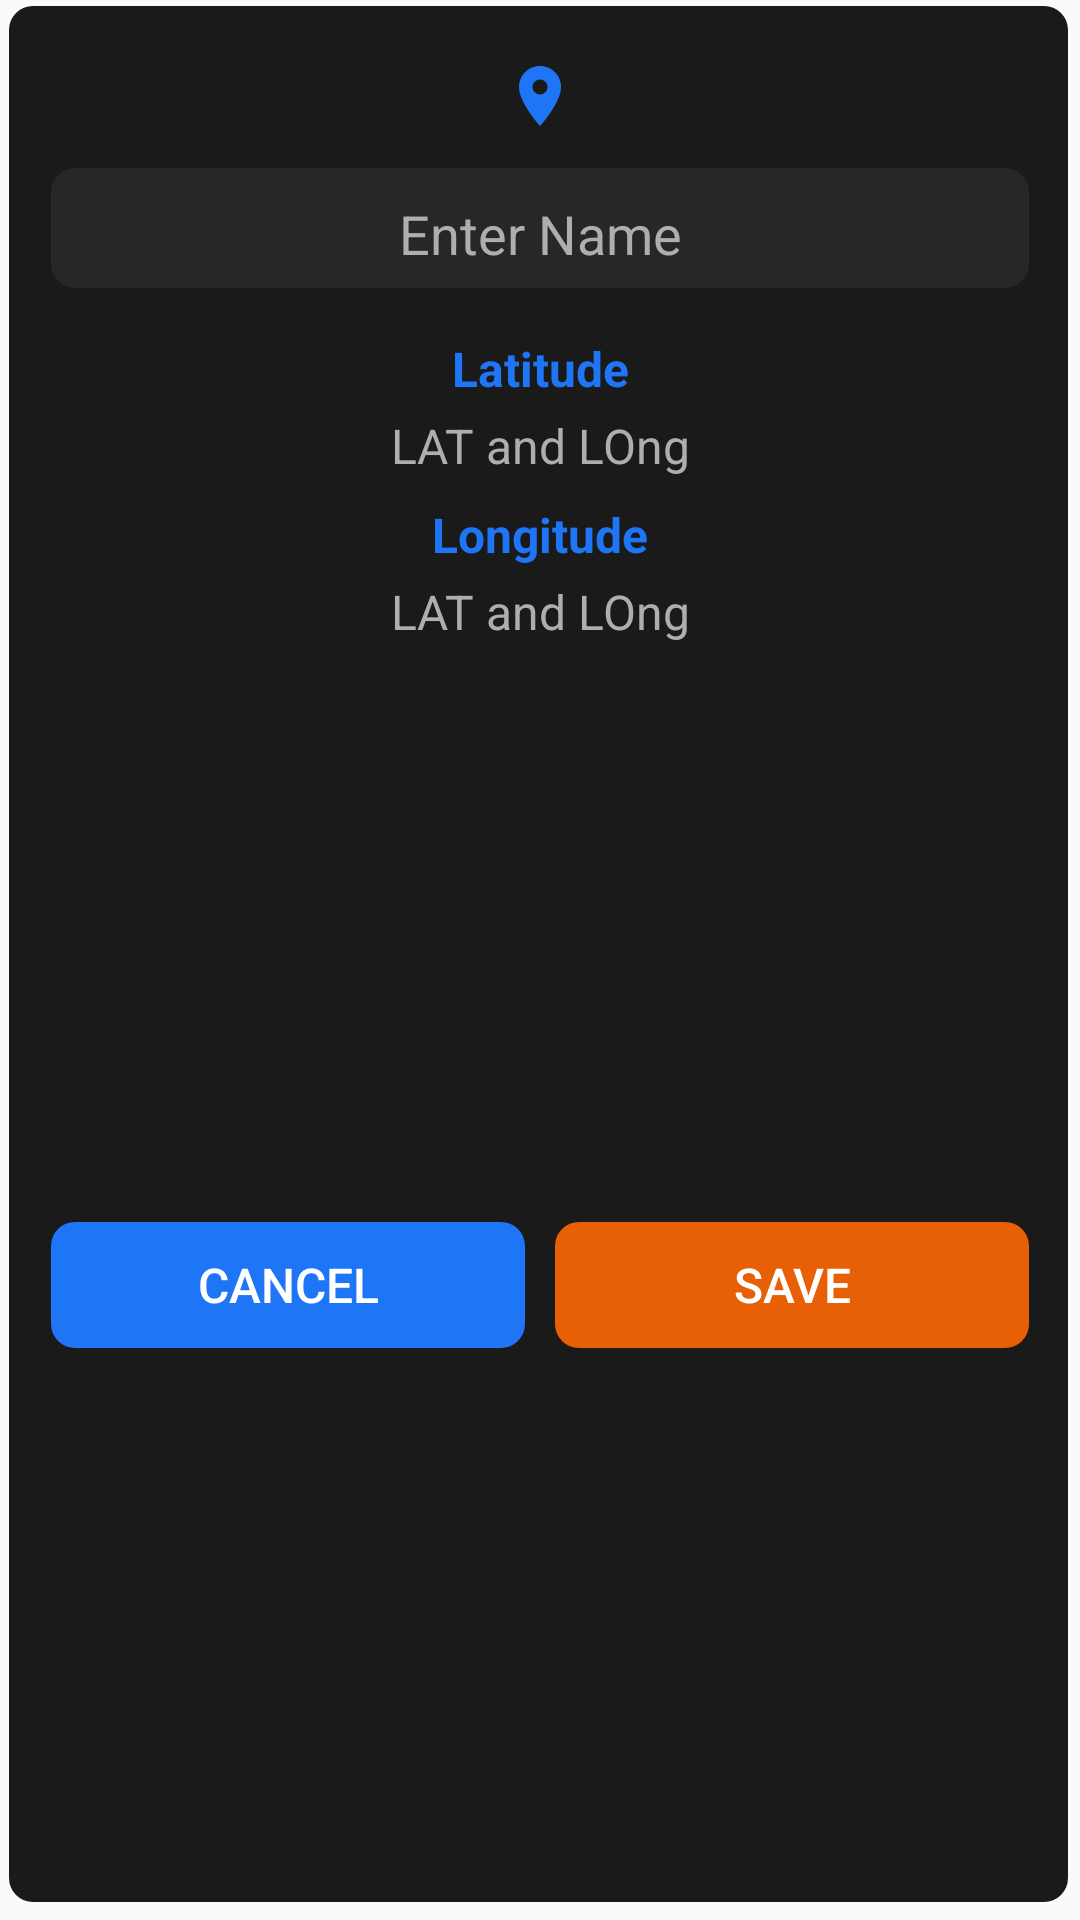

Named icons in this screenshot (1080w x 1920h) and their centers, (x,y):
location on: (540,96)
